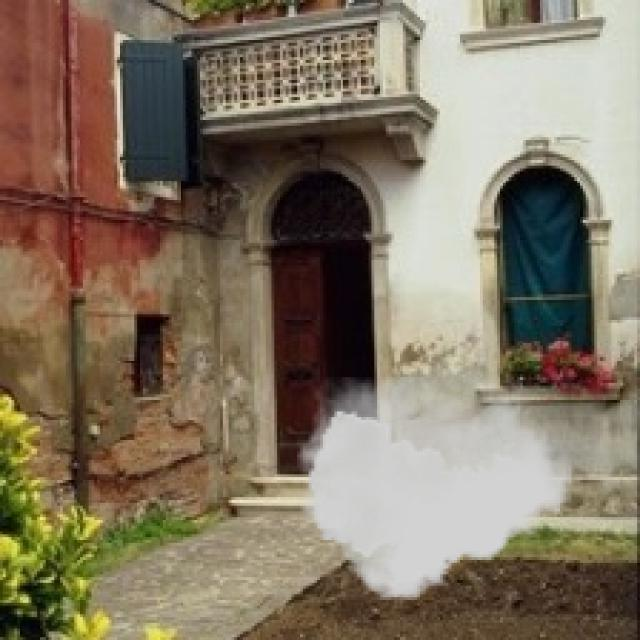Smoke: (297, 377, 572, 600)
